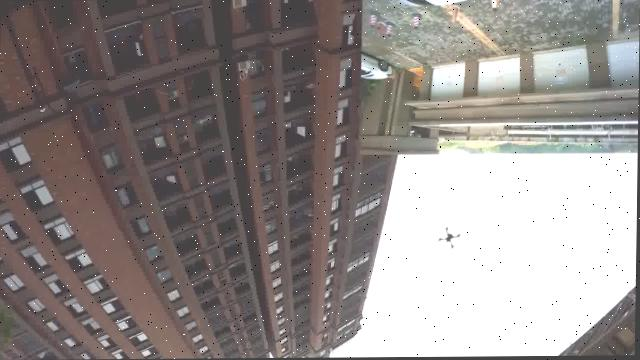drone: (435, 223, 465, 253)
